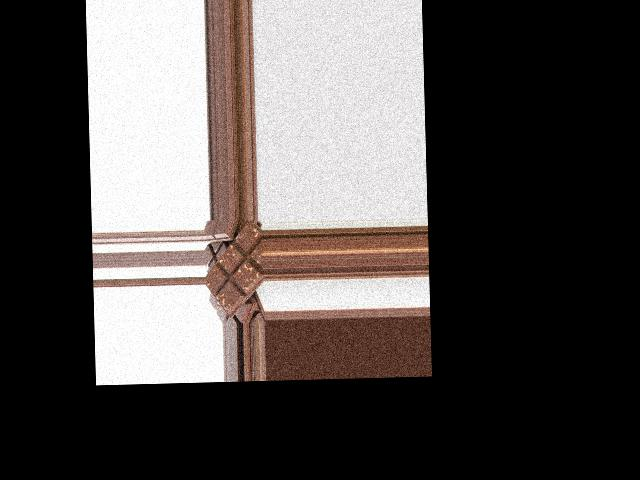chocolate: (204, 221, 265, 311)
